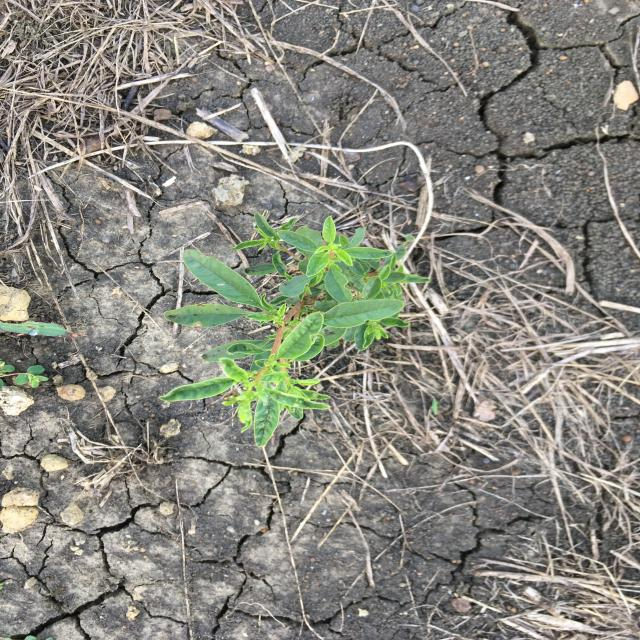SpottedSpurge: (1, 360, 50, 390)
Waterhemp: (156, 210, 432, 448)
